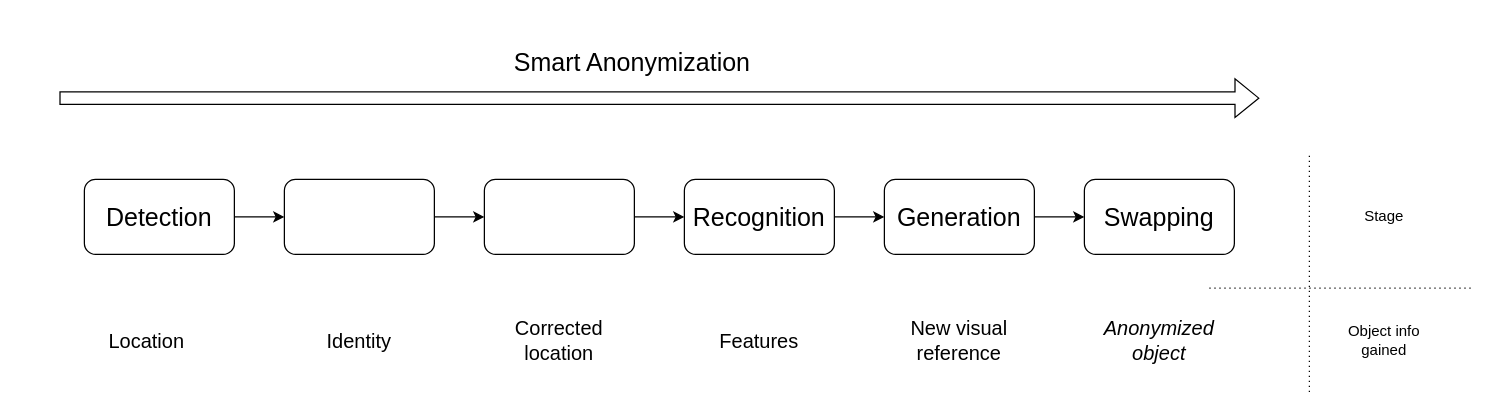
Some shapes in this 1495 by 415 pixel diagram are drawn without their labels. Here are the shapes that lost their labels. From the top down, the centre of each, then its label:
point 358,216: Tracking
point 558,216: Stabilization
